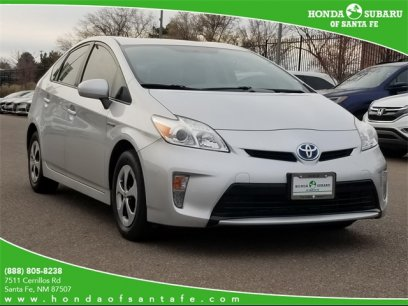Toyota Prius: (22, 34, 390, 244)
